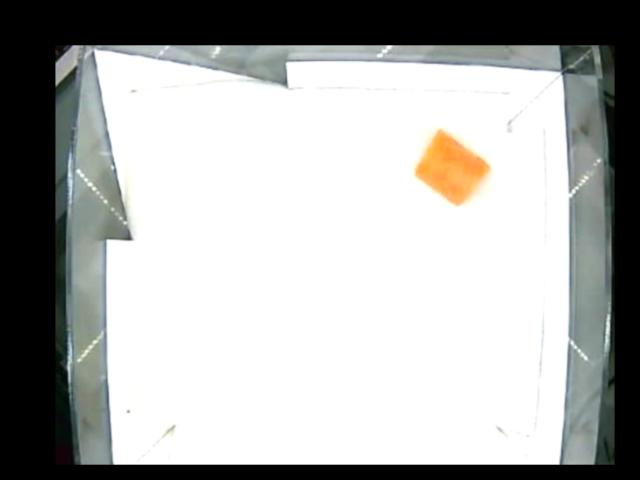Carrot: (416, 128, 489, 207)
